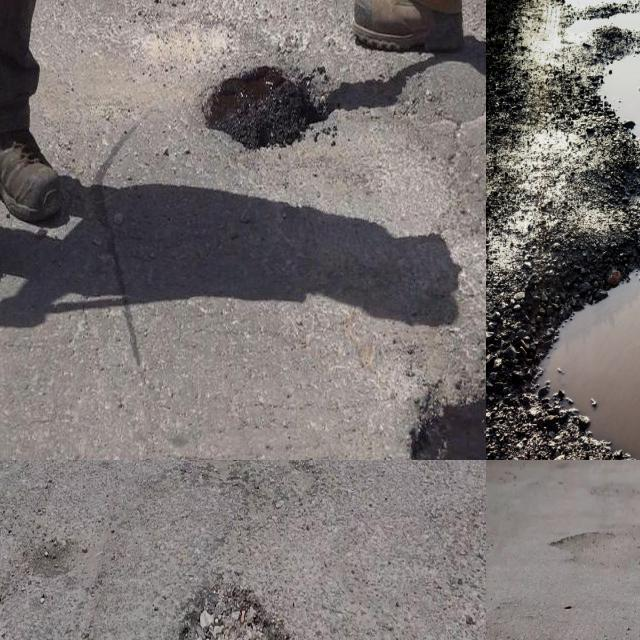Pothole: (207, 67, 318, 148), (548, 527, 640, 572)
